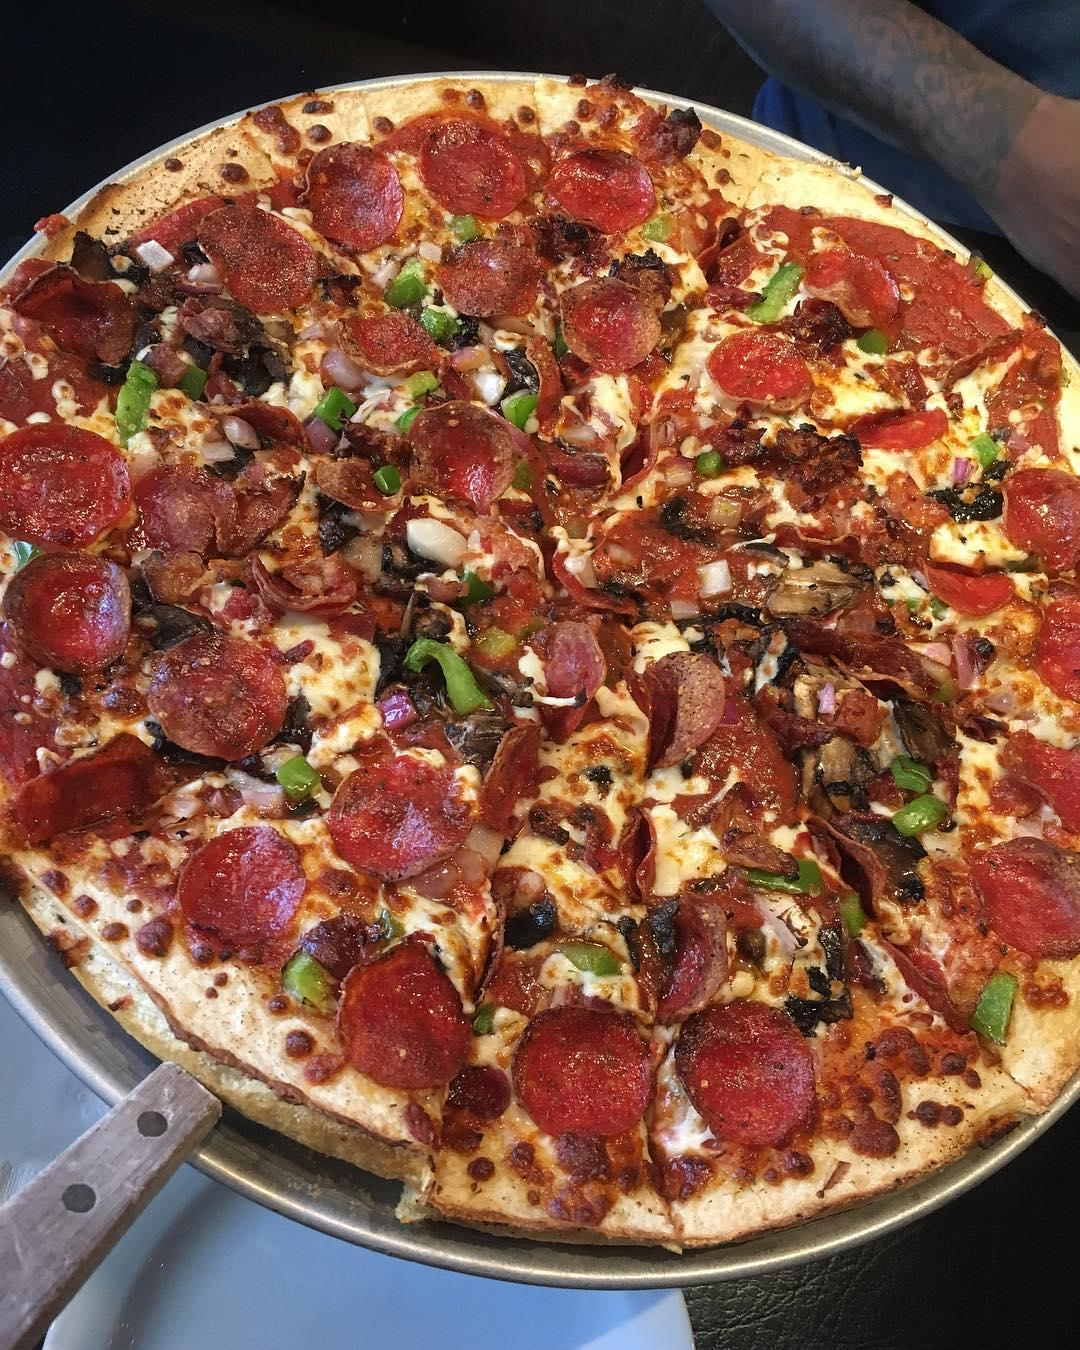Pepperoni: (512, 1006, 658, 1138), (678, 1006, 818, 1141), (149, 629, 290, 760), (341, 947, 469, 1087), (0, 421, 132, 552), (328, 760, 475, 878), (0, 552, 138, 674), (0, 256, 134, 367), (180, 827, 305, 937), (968, 840, 1080, 959), (201, 206, 314, 312), (402, 404, 510, 508), (419, 123, 528, 219), (303, 144, 404, 247), (639, 901, 734, 1005), (560, 279, 662, 371), (523, 616, 601, 734), (997, 733, 1080, 839), (647, 652, 730, 757), (436, 239, 541, 317), (553, 149, 656, 228), (1005, 467, 1080, 570), (710, 334, 816, 403), (339, 317, 443, 384), (808, 252, 900, 322), (915, 557, 1016, 618), (1030, 594, 1080, 700), (845, 408, 951, 451)
Peppers: (403, 631, 490, 714), (965, 970, 1024, 1043), (742, 853, 824, 901), (746, 259, 803, 325), (553, 927, 626, 978), (284, 950, 339, 1014), (112, 365, 158, 438), (892, 797, 952, 840), (385, 255, 425, 306), (890, 755, 937, 797), (840, 889, 866, 936)
Pizza: (0, 74, 1080, 1248)
